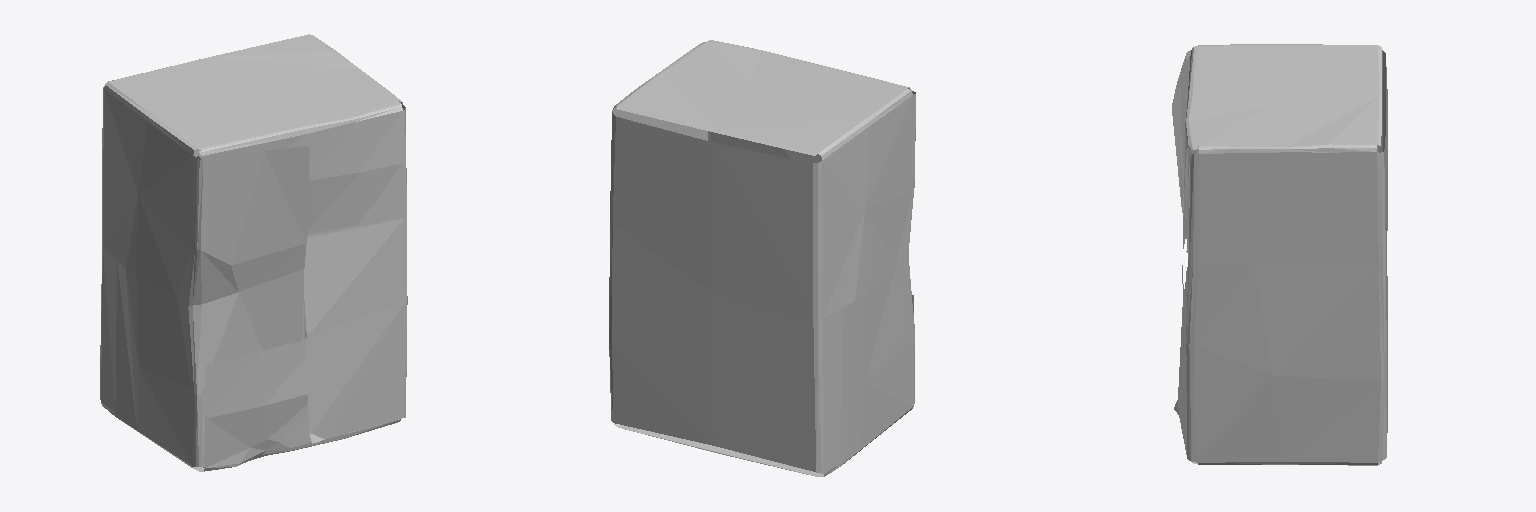
3 renders of one model, left to right at view 1: azimuth 30°, elevation 25°; view 2: azimuth 150°, elevation 25°; view 3: azimuth 270°, elevation 25°, orthographic.
Parts seen in each view (by area): view 1: BoxC_PI_BOX_0; view 2: BoxC_PI_BOX_0; view 3: BoxC_PI_BOX_0.
Part boxes in pixels (bbox=[...]): BoxC_PI_BOX_0: bbox=[100, 34, 407, 471]; BoxC_PI_BOX_0: bbox=[609, 40, 915, 476]; BoxC_PI_BOX_0: bbox=[1172, 44, 1387, 465].
Size of the model in its own units: 0.573 by 0.8193 by 0.4948.